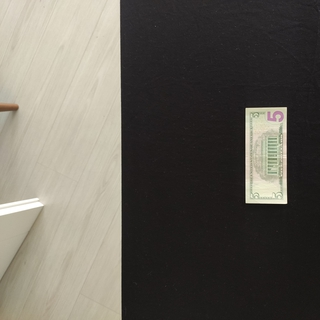5USDBack: (244, 107, 287, 204)
